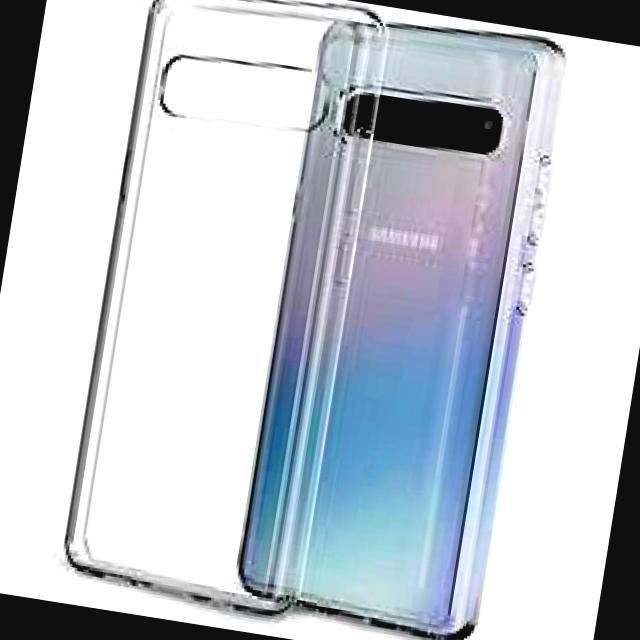lens_back: (408, 101, 444, 146)
phone: (227, 5, 574, 640)
